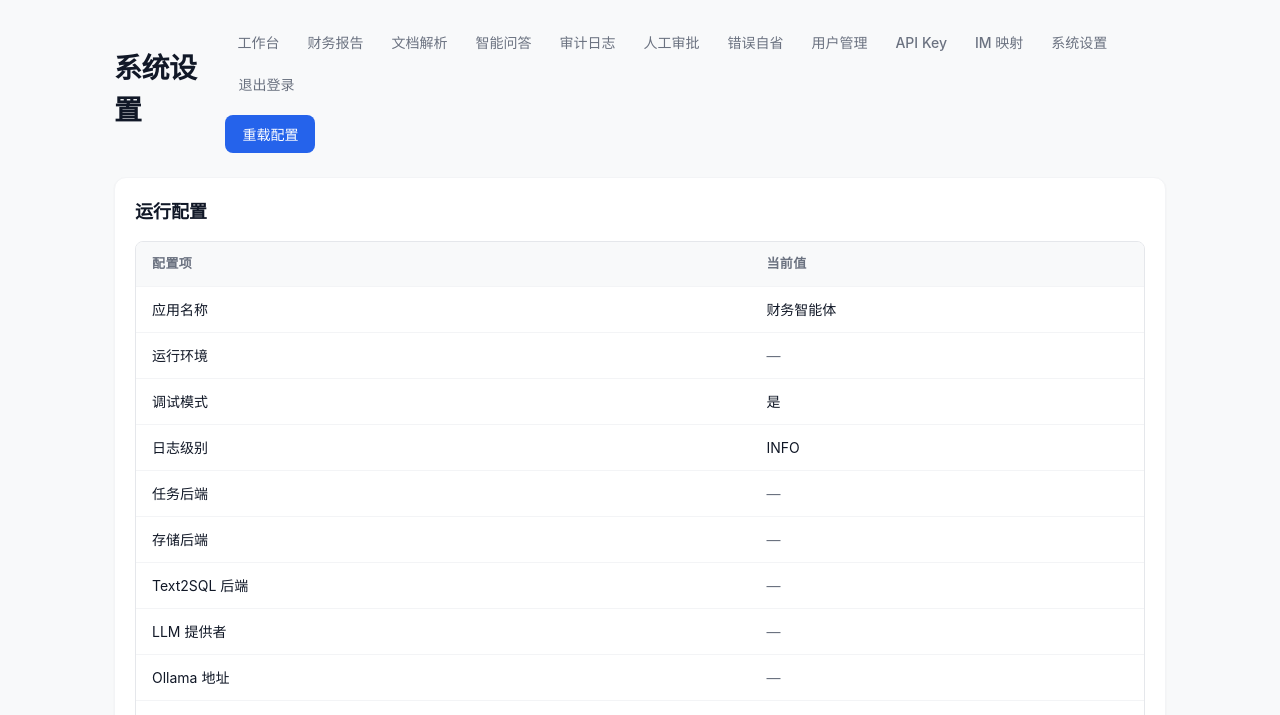
Test case: SettingsPage › 点击重载配置后展示成功提示并重新拉取
Expected: the heading "运行配置" is shown, [135, 201, 207, 222]
Click the button "重载配置": point(270, 134) [225, 115, 315, 153]
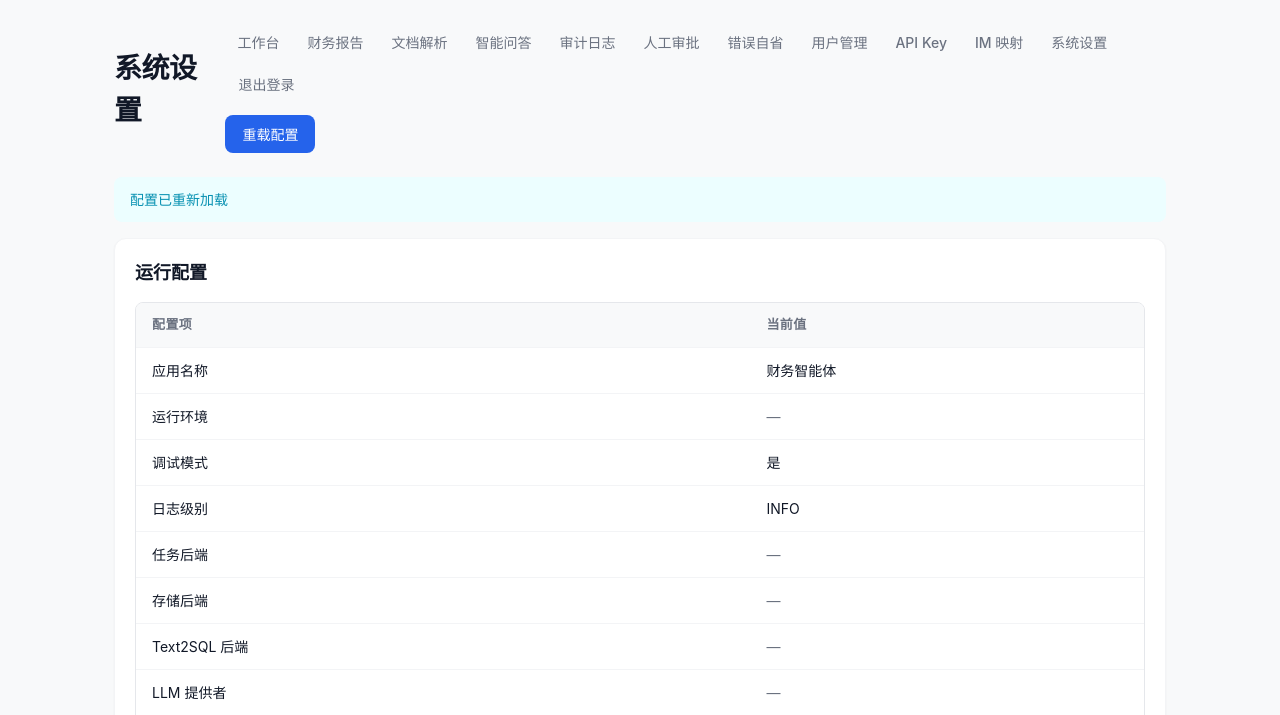
Expected: the text "配置已重新加载" is shown, [114, 177, 1166, 222]
